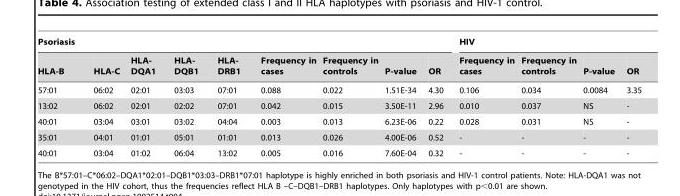table: (37, 37, 641, 157)
table column: (250, 37, 318, 157), (450, 37, 517, 157), (318, 37, 380, 157), (517, 37, 579, 157), (78, 37, 124, 157), (164, 37, 207, 157), (207, 37, 250, 157), (37, 37, 78, 157), (380, 37, 421, 157), (124, 37, 164, 157), (579, 37, 619, 157), (421, 37, 450, 157), (619, 37, 641, 157)
table column header: (37, 37, 641, 80)
table row: (37, 50, 641, 80), (37, 80, 641, 97), (37, 97, 641, 113), (37, 113, 641, 129), (37, 129, 641, 145), (37, 37, 641, 50), (37, 145, 641, 157)
table spanning cell: (37, 37, 450, 50), (450, 37, 641, 50)
